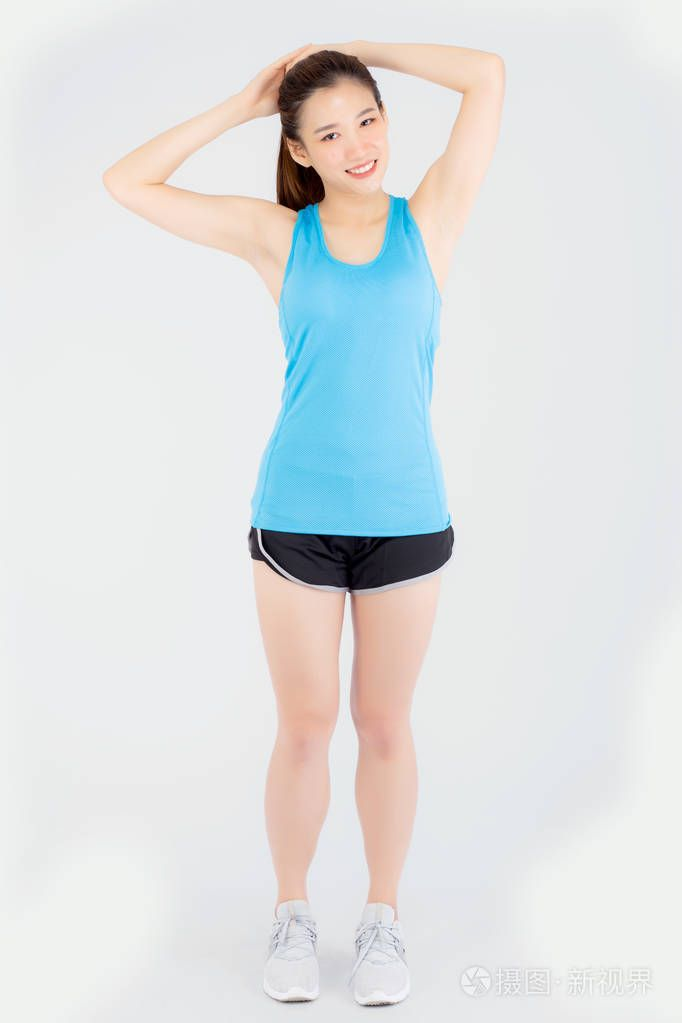up: (95, 28, 514, 1009)
